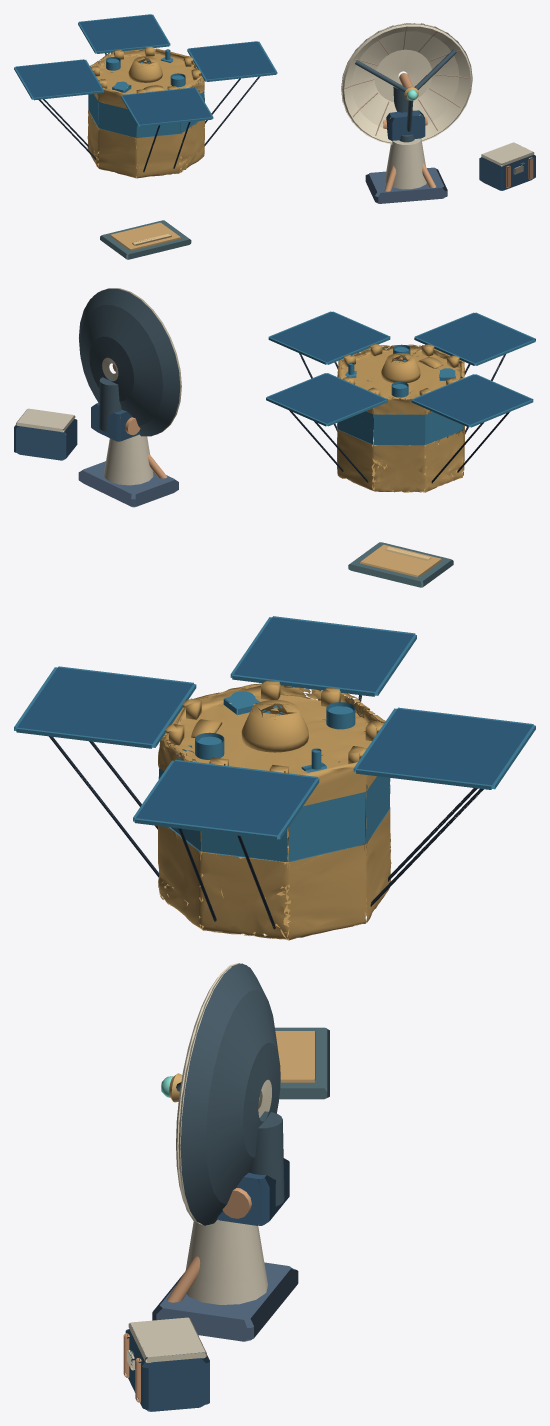
File: satelite.obj
3 renders of one model, top to bottom at view 1: azimuth 30°, elevation 25°; view 2: azimuth 150°, elevation 25°; view 3: azimuth 270°, elevation 25°, orthographic. The views are drawn at different scales.
Visible parts, largest first — view 1: satelite; view 2: satelite; view 3: satelite.
Part boxes in pixels (x1,y1,x2,y2): satelite: [14, 14, 535, 259]; satelite: [14, 288, 535, 587]; satelite: [14, 616, 535, 1411].
Size of the model in its own units: 1.63 by 0.5986 by 0.7887.
